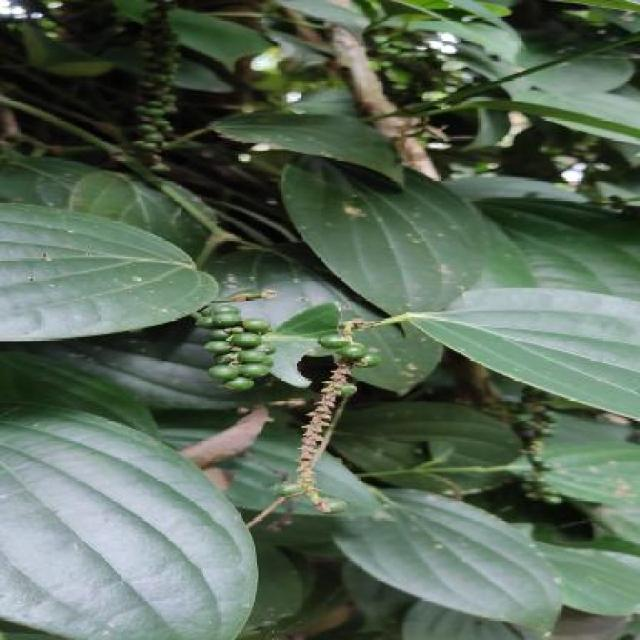UNRIPE: (129, 6, 182, 169), (200, 305, 275, 388), (320, 332, 382, 368)
